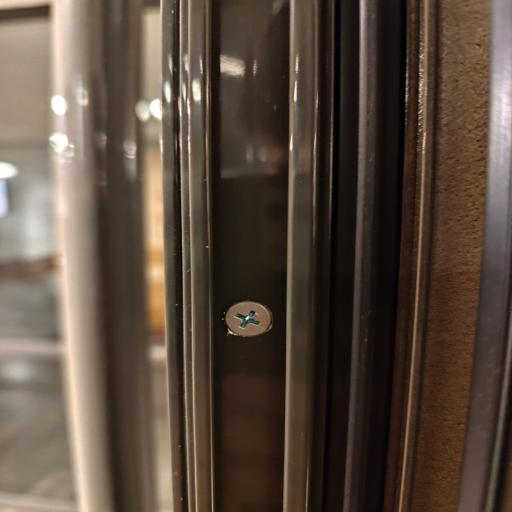Phillips: (220, 301, 274, 340)
